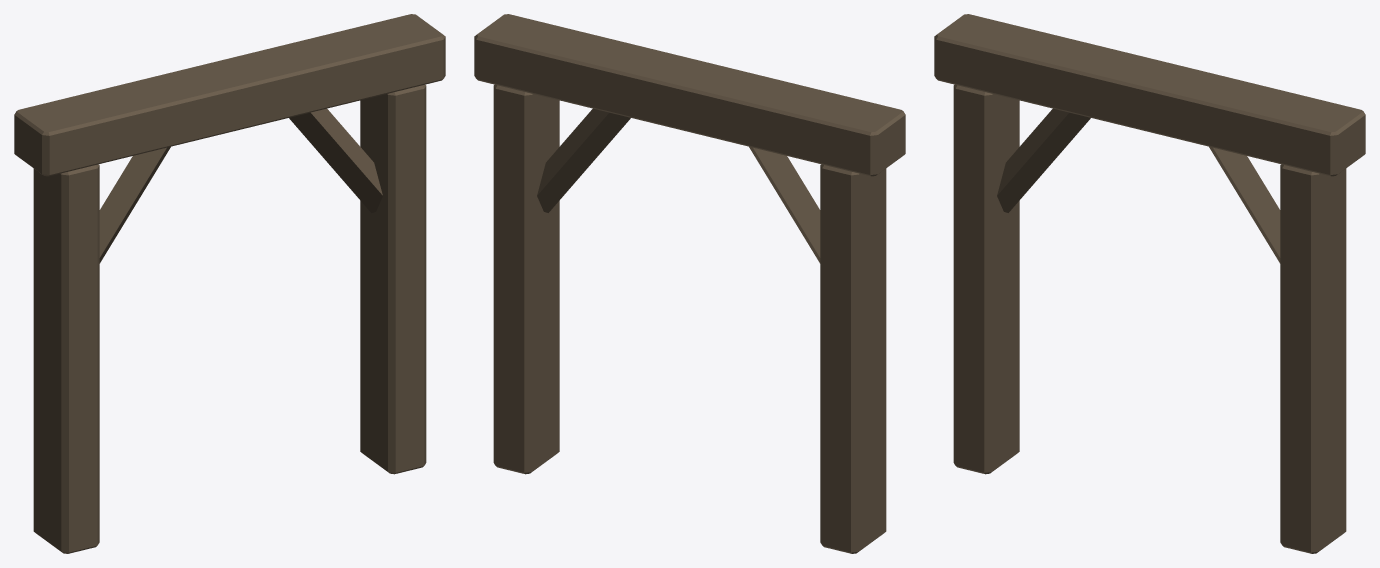
The model's file is timber-shoring.glb.
3 renders of one model, left to right at view 1: azimuth 30°, elevation 25°; view 2: azimuth 150°, elevation 25°; view 3: azimuth 330°, elevation 25°, orthographic.
Parts seen in each view (by area): view 1: timber-shoring__body; view 2: timber-shoring__body; view 3: timber-shoring__body.
Boxes of the visible parts, box(x1,y1,x2,y2) form: timber-shoring__body: box(14, 14, 445, 553); timber-shoring__body: box(474, 14, 905, 553); timber-shoring__body: box(934, 14, 1365, 553).
Size of the model in its own units: 2.1 by 2.12 by 0.3.
